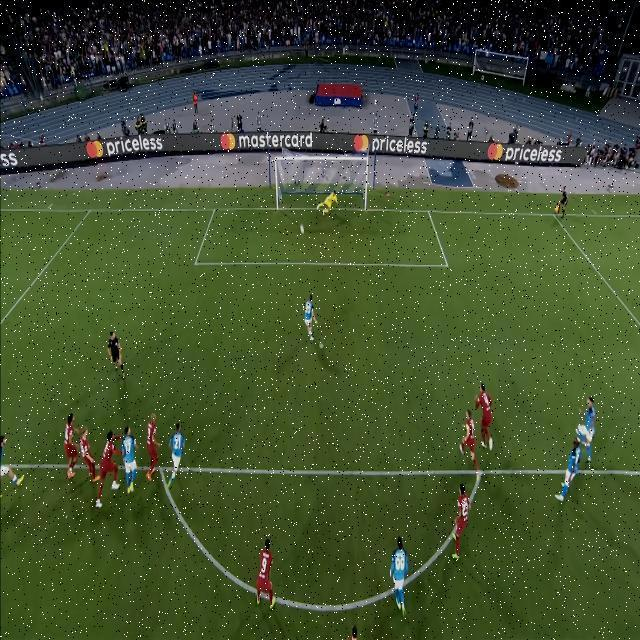ball: (300, 224, 304, 234)
goalkeeper: (317, 186, 341, 215)
player: (388, 537, 410, 617), (451, 484, 473, 564), (574, 390, 595, 468), (257, 535, 278, 610), (120, 421, 140, 496), (100, 430, 120, 502), (560, 435, 581, 502), (475, 380, 495, 450), (78, 422, 100, 485), (143, 410, 161, 484), (459, 407, 479, 472), (63, 409, 81, 479), (168, 422, 184, 492), (304, 294, 318, 342)
referee: (106, 330, 128, 382)
